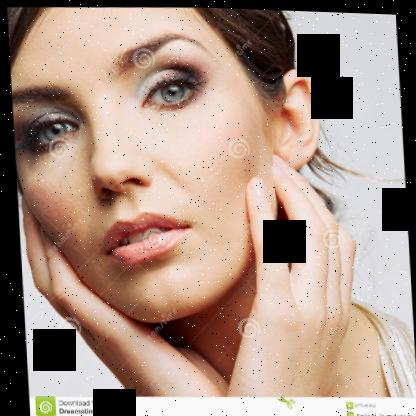Female: (5, 0, 328, 329)
